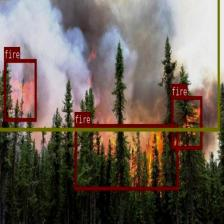fire: (74, 123, 178, 190), (4, 59, 36, 121), (171, 96, 201, 148)
smoke: (0, 0, 219, 131)
